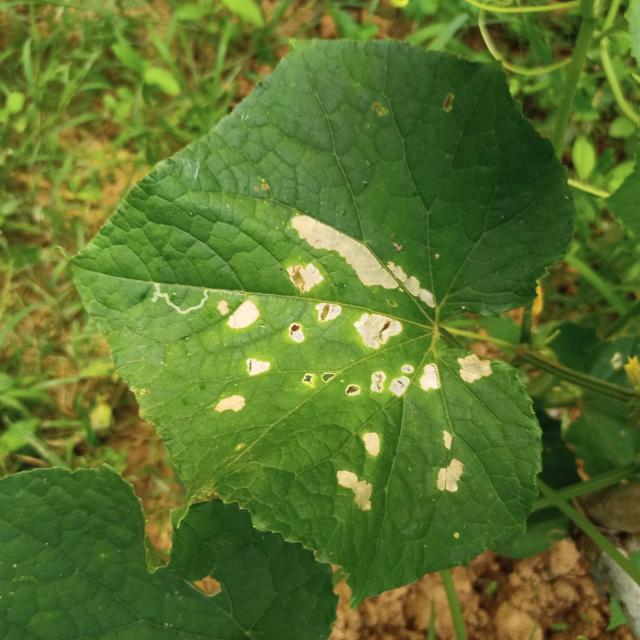disease_cucumber: (279, 212, 439, 353), (296, 349, 498, 415), (209, 292, 274, 420), (335, 425, 386, 516), (432, 424, 468, 510)
